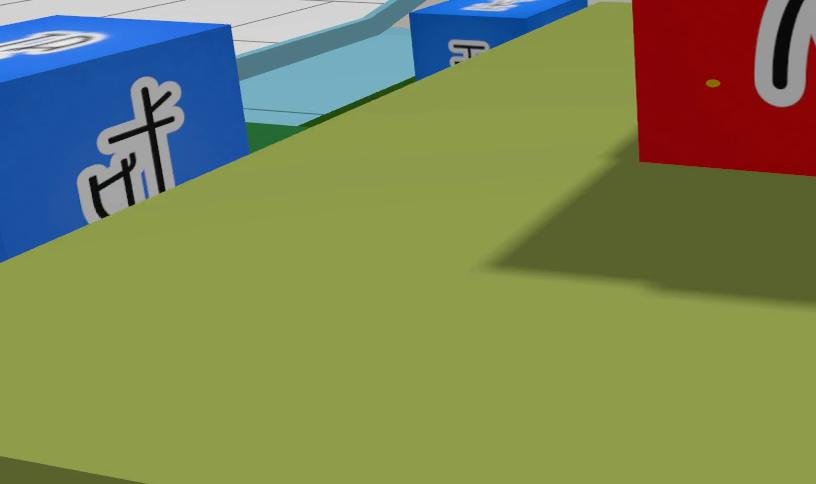KFS_FAKE: (629, 0, 816, 175), (754, 0, 816, 107)
KFS_REAL: (3, 13, 251, 262), (76, 77, 184, 223), (409, 0, 591, 81), (0, 31, 106, 59), (449, 39, 489, 65), (464, 0, 535, 11)
